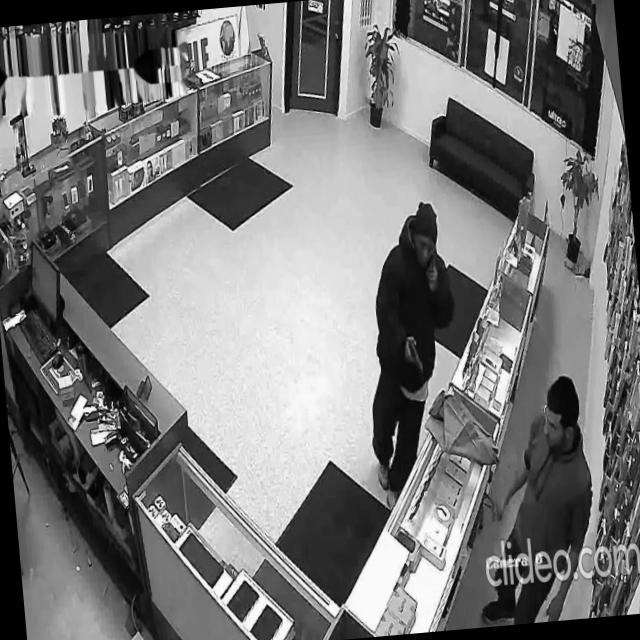gun: (406, 334, 424, 376)
person: (460, 371, 604, 627)
person with a gun: (351, 194, 472, 512)
